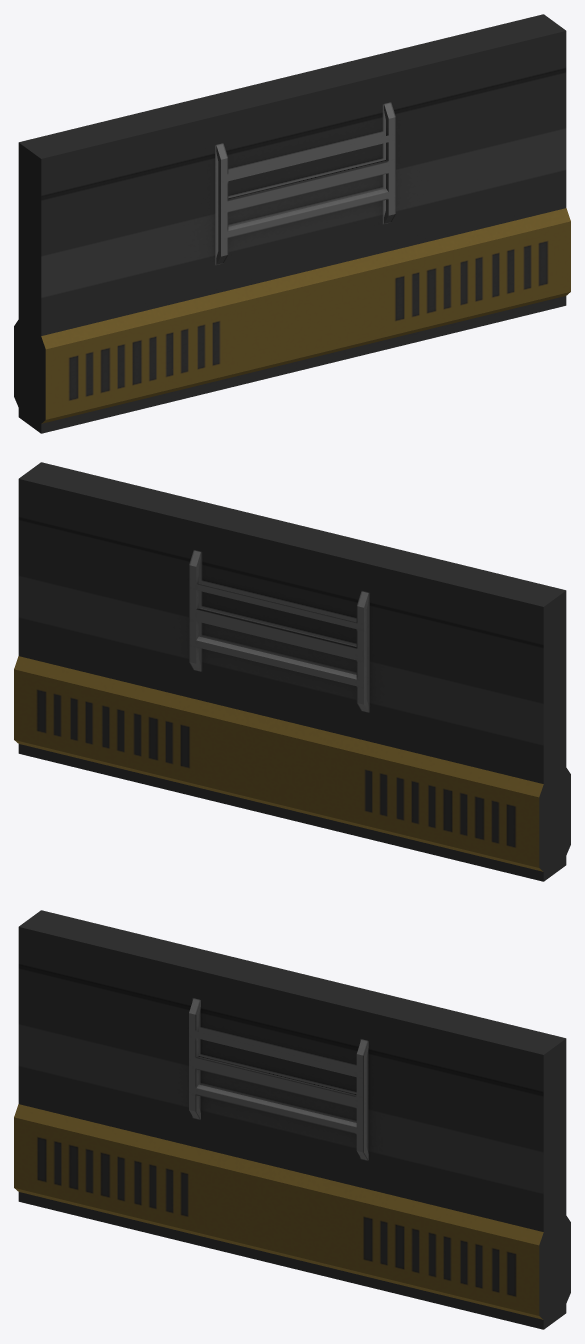
Rendered from Wall_03.fbx.
3 views of the same model, one above another, from view 1: azimuth 30°, elevation 25°; view 2: azimuth 150°, elevation 25°; view 3: azimuth 330°, elevation 25° (orthographic).
Visible parts, largest first — view 1: Wall_03 Low Poly; view 2: Wall_03 Low Poly; view 3: Wall_03 Low Poly.
Part boxes in pixels (box(x1,y1,x2,y2)): Wall_03 Low Poly: box(14, 14, 570, 433); Wall_03 Low Poly: box(14, 462, 570, 881); Wall_03 Low Poly: box(14, 910, 570, 1329).
Size of the model in its own units: 400 by 200 by 42.15.
Materials: 1 (1 with a texture image).
